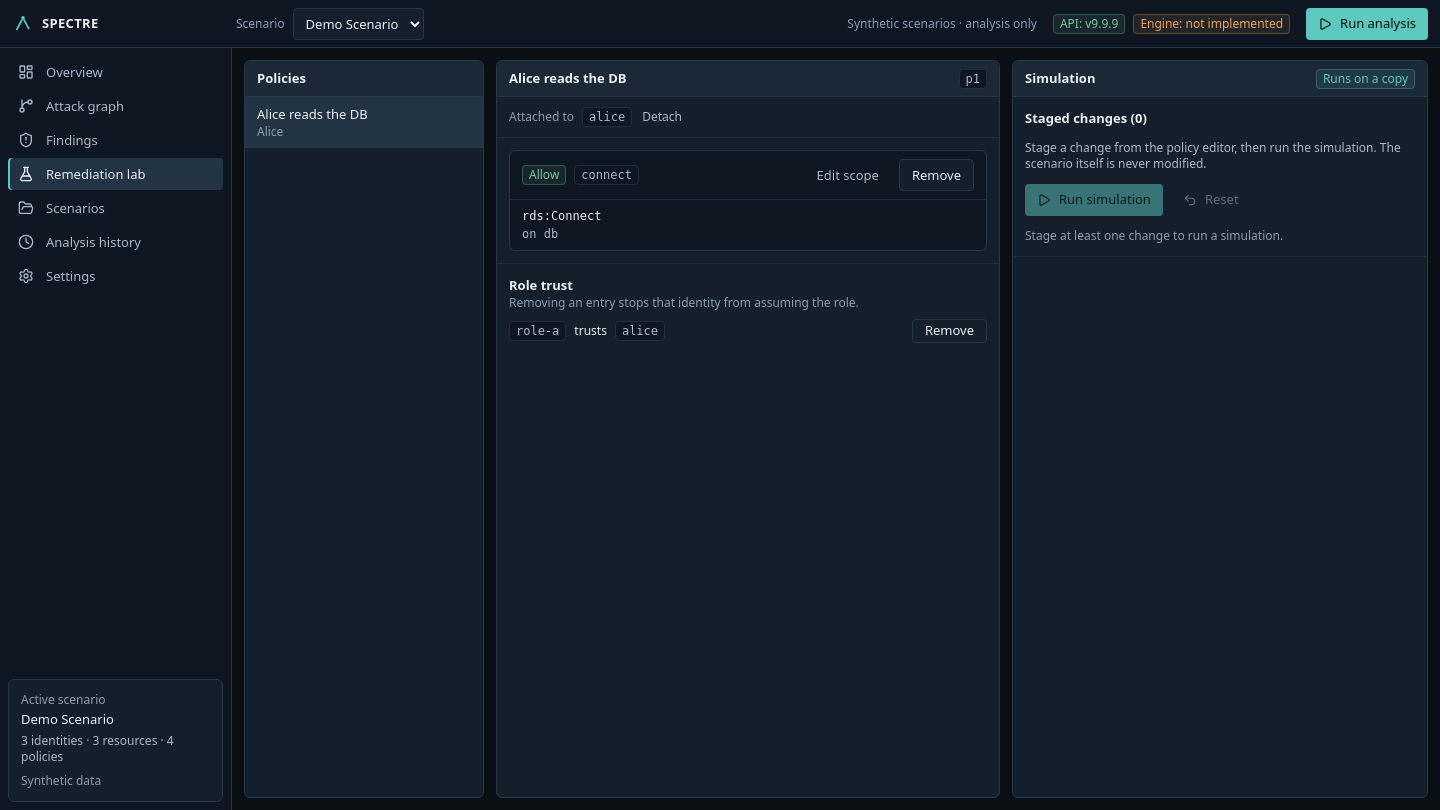
Scenario: RemediationPage › lists residual paths for a partial fix
This screenshot has width=1440, height=810.
Click the button with aria-label "Remove statement connect" at (936, 175), box [899, 159, 974, 191]
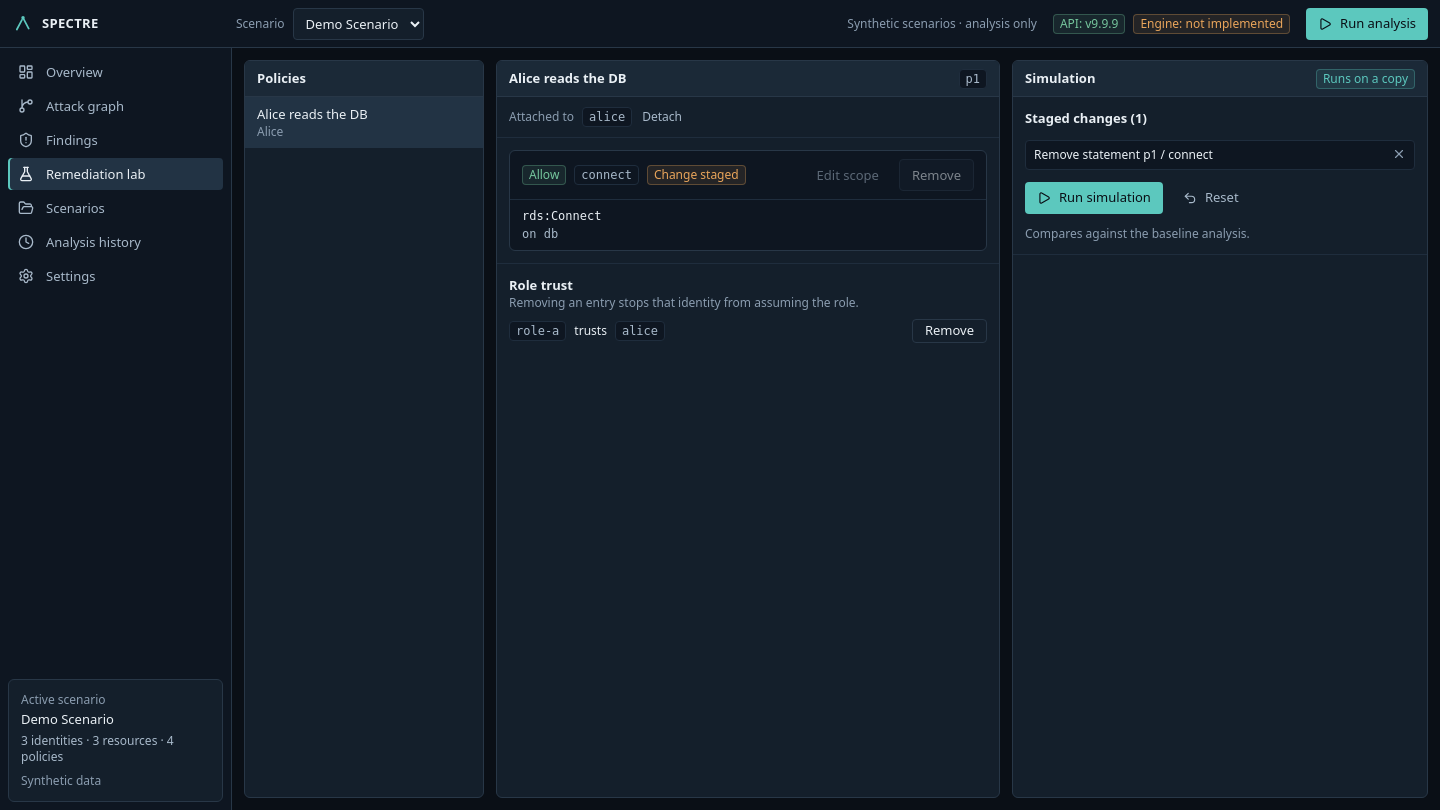
Click the button "Run simulation" at (1094, 198), box [1025, 182, 1163, 214]
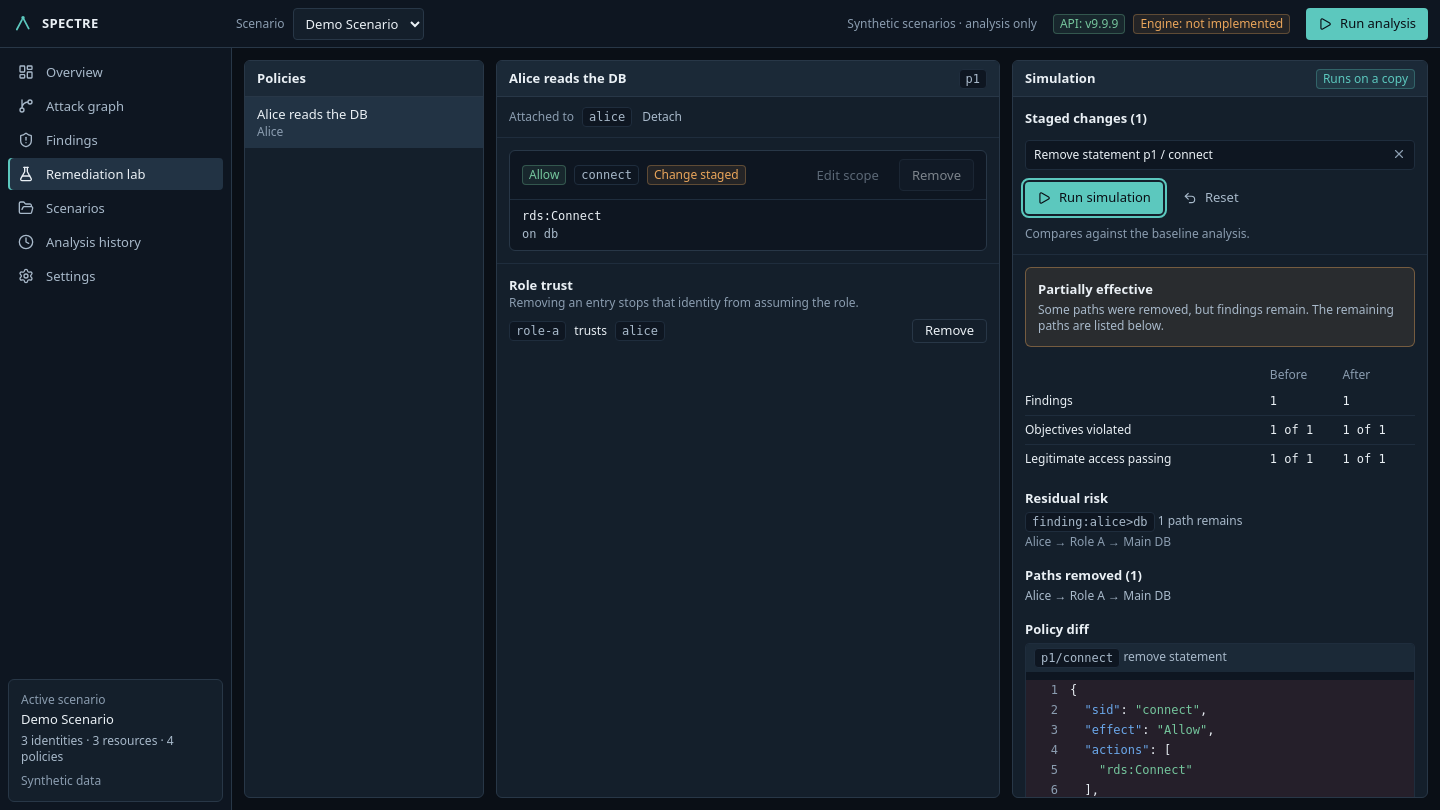
Check: the list item "Alice → Role A → Main DB" below "finding:alice>db" is shown, box [1025, 533, 1171, 550]
